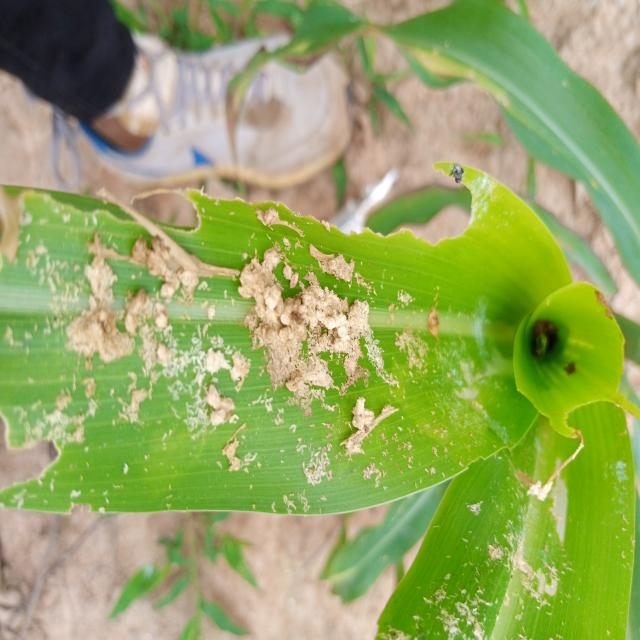fall-armyworm-frass: (232, 252, 383, 392), (67, 240, 189, 378), (418, 558, 603, 640), (194, 346, 233, 484), (347, 401, 406, 470), (290, 437, 337, 489)
fall-armyworm-larval-damage: (341, 165, 492, 250), (0, 429, 64, 500), (560, 401, 625, 454)
